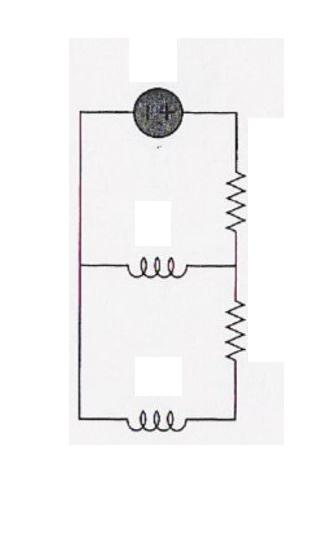resistor: (215, 279, 265, 366), (208, 159, 262, 232)
